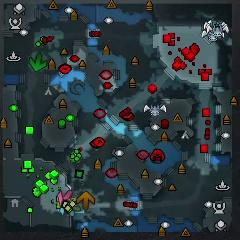x1: (57, 190, 72, 204)
x2: (64, 197, 82, 212)
x4: (29, 53, 47, 71)
x5: (78, 192, 95, 210)
